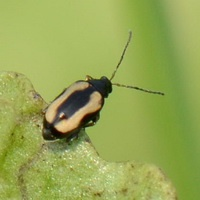insect: (42, 31, 163, 139)
